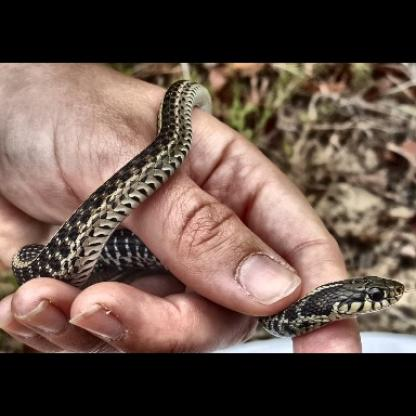Snake: (7, 76, 410, 336)
